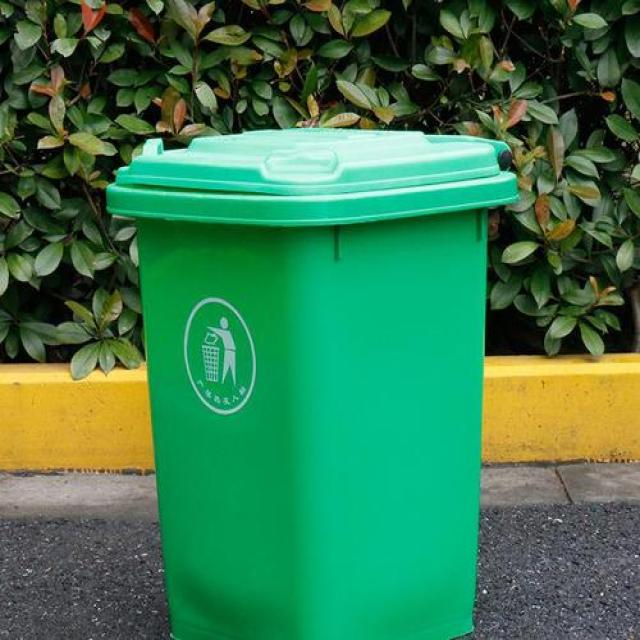garbage_bin: (104, 126, 517, 638)
